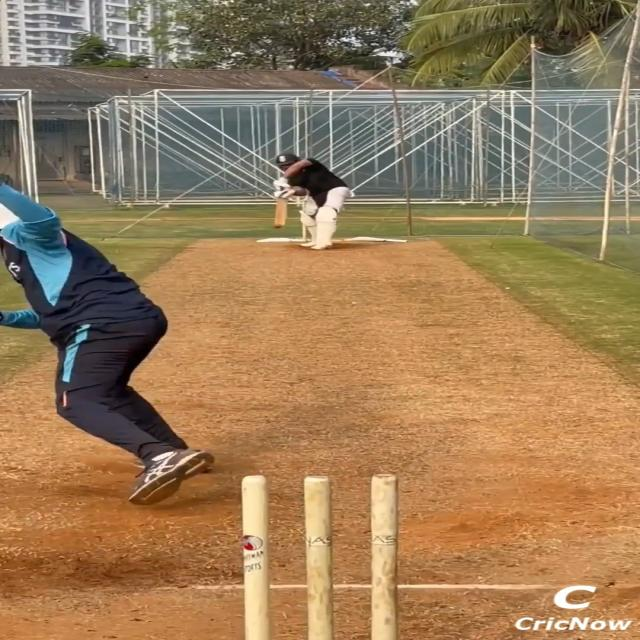ball: (274, 224, 283, 229)
stump: (238, 474, 402, 640)
